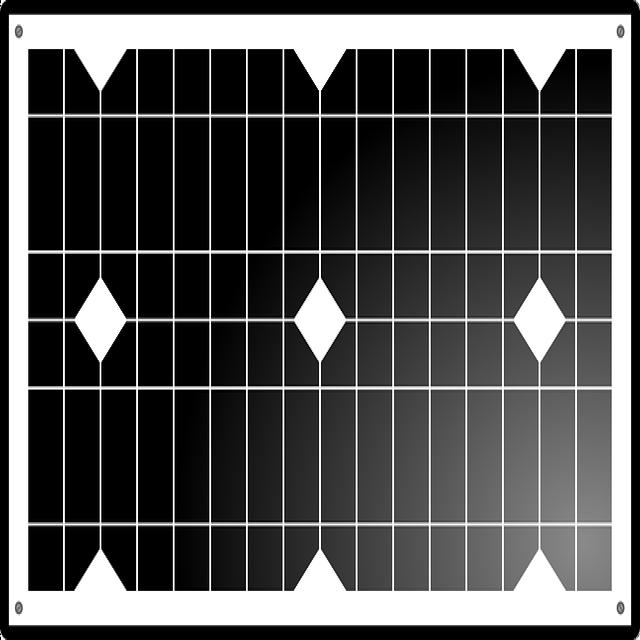clean-solar-panel: (139, 256, 172, 317)
